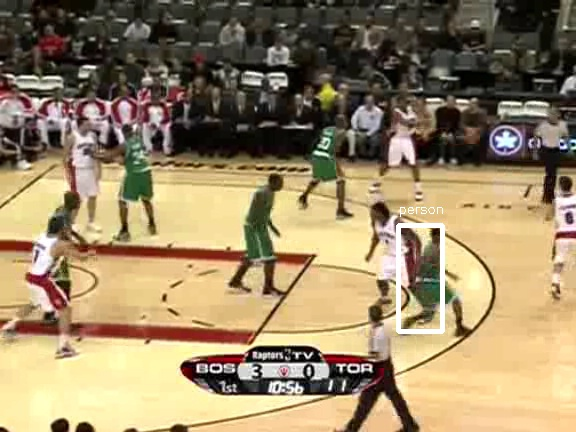person: (415, 237, 449, 318), (414, 237, 448, 318), (416, 237, 450, 318), (415, 236, 449, 317), (415, 238, 449, 319)
target_negative: (36, 205, 362, 387), (327, 33, 477, 321), (218, 230, 498, 272), (397, 322, 564, 383), (122, 251, 222, 337), (357, 277, 397, 310)
